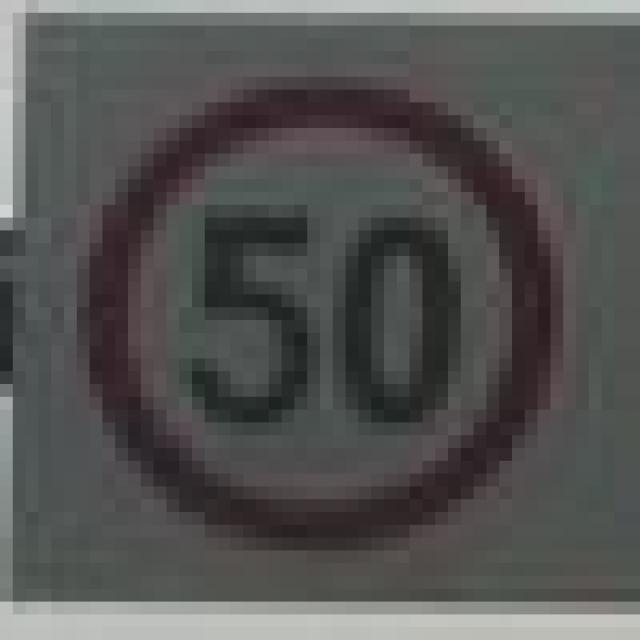SPEED_LIMIT_50: (64, 64, 550, 512)
